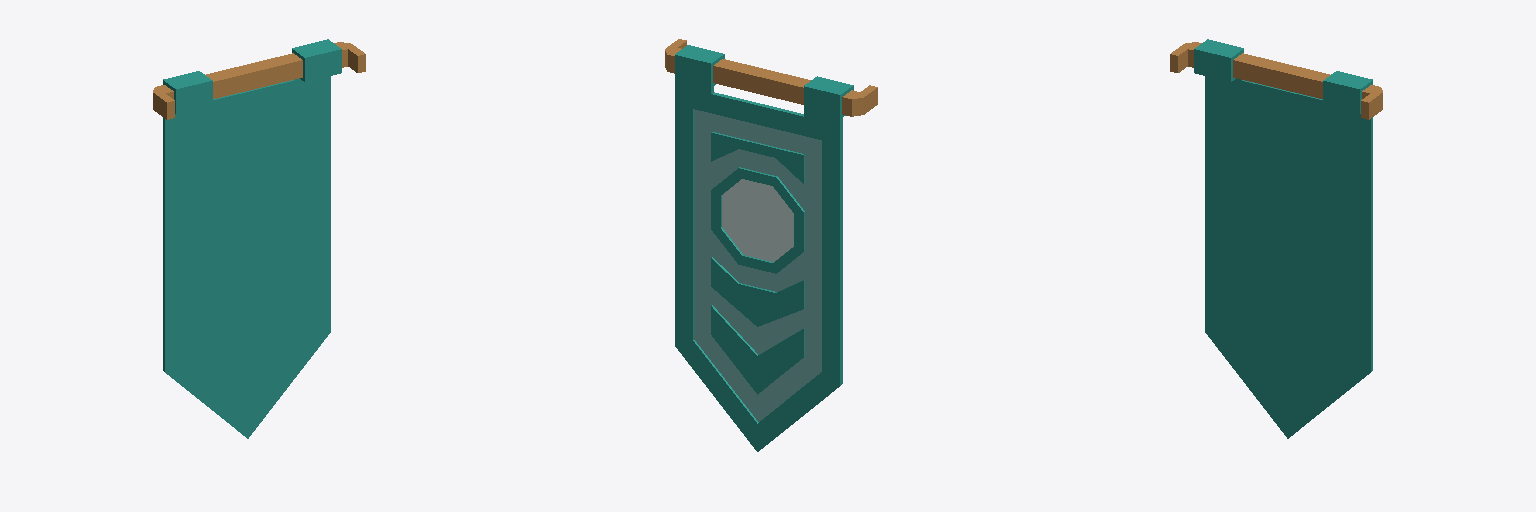
Rendered from Prop_Flag_Sun.obj.
3 views of the same model, side by side, from view 1: azimuth 30°, elevation 25°; view 2: azimuth 150°, elevation 25°; view 3: azimuth 330°, elevation 25° (orthographic).
Parts seen in each view (by area): view 1: object2, object1; view 2: object2, object1; view 3: object2, object1.
Part boxes in pixels (x1,y1,x2,y2): object2: (163,39,341,438); object1: (153,42,365,119); object2: (675,45,853,451); object1: (665,39,877,116); object2: (1194,39,1372,438); object1: (1170,42,1382,119).
Bounding box in the file's own units: 0.54 × 0.979 × 0.099.